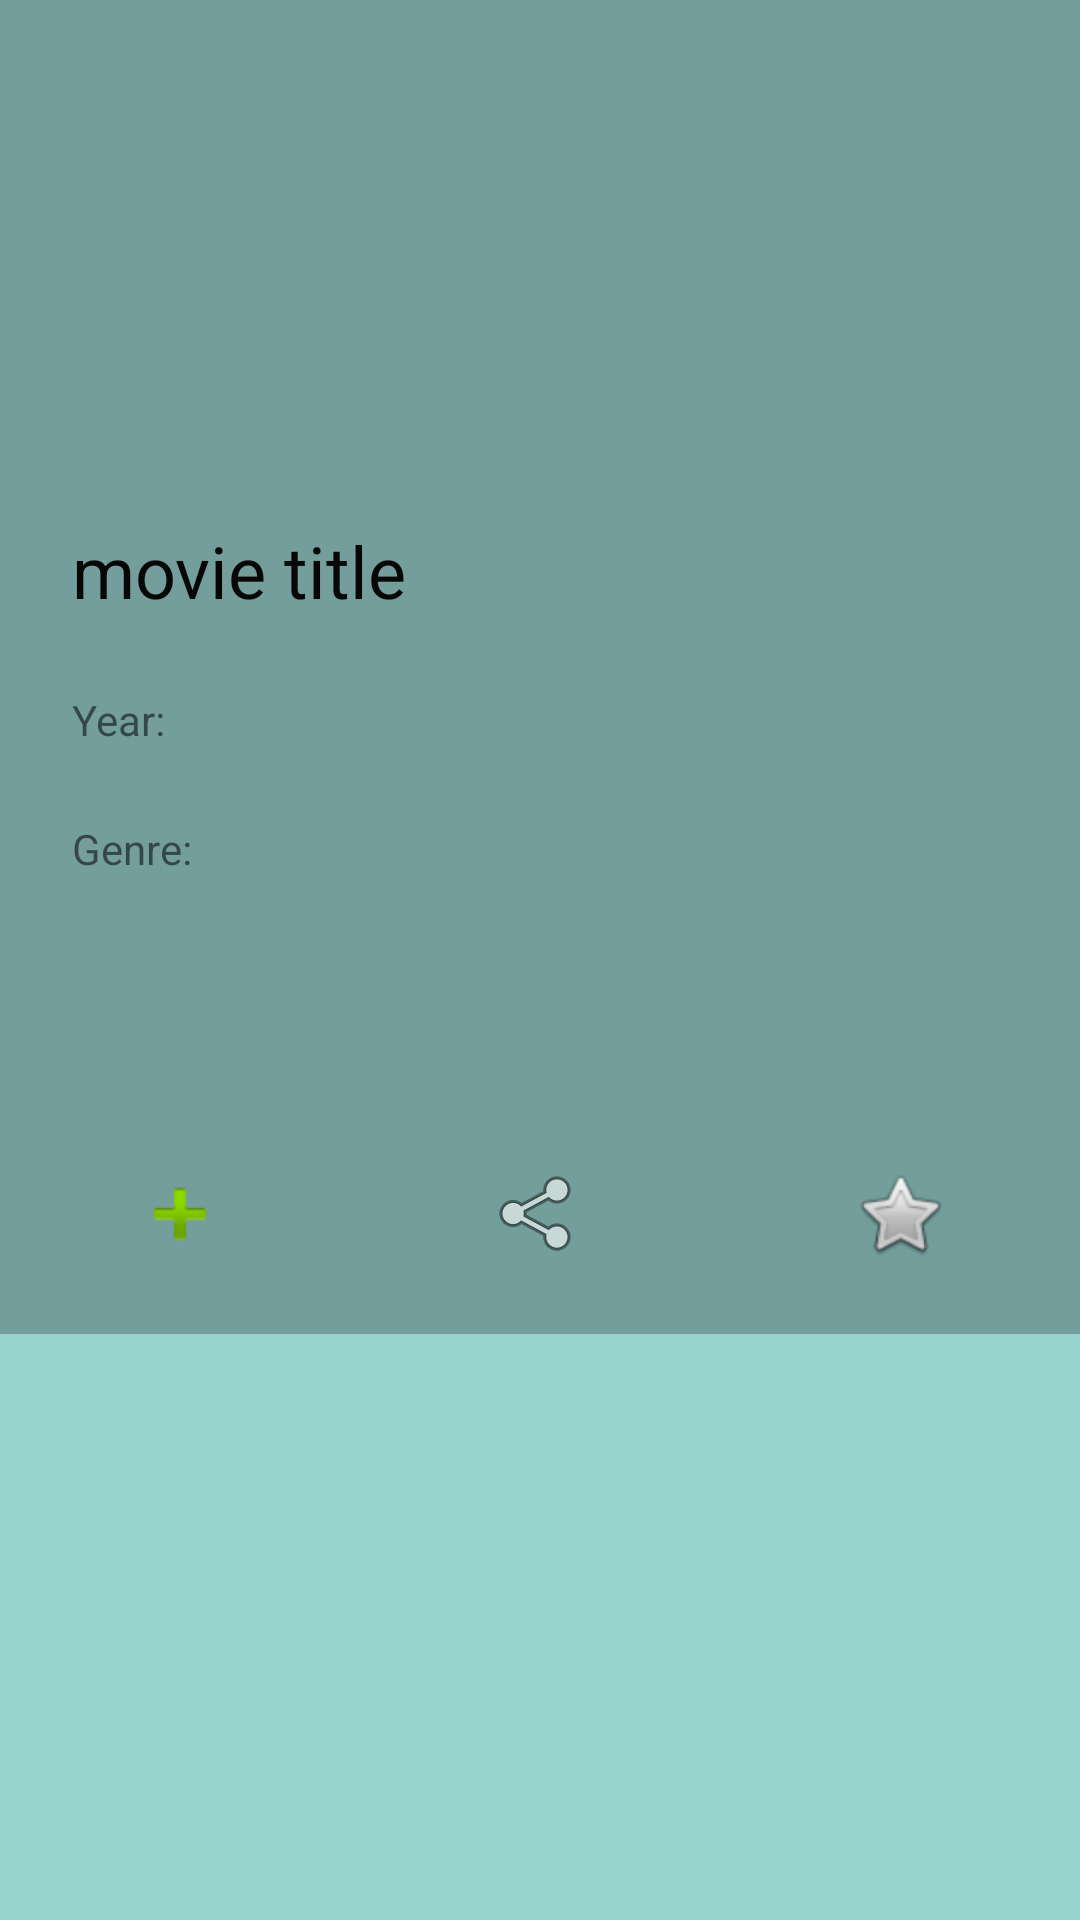

Named icons in this screenshot (1080 x 1920) and their centers, point (x, y):
add: point (180, 1214)
favorites: point (901, 1215)
share: point (535, 1213)
